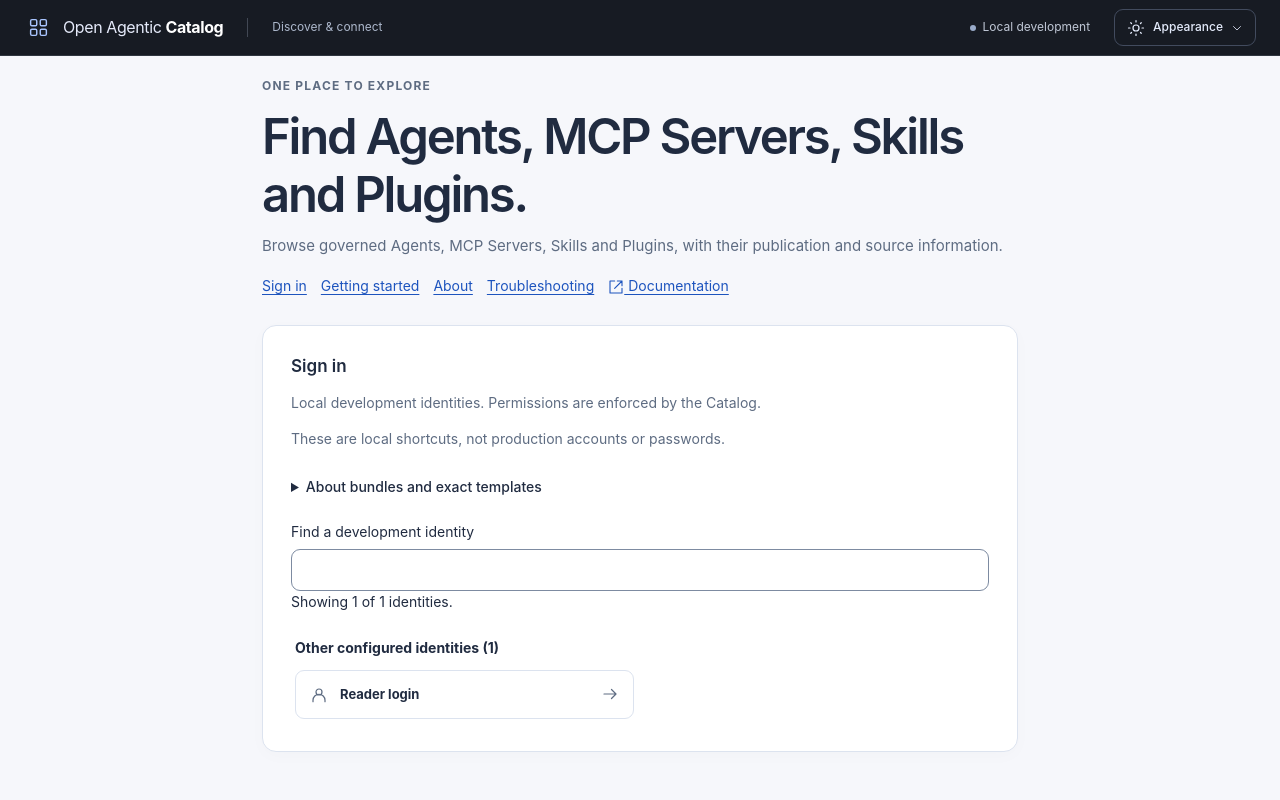
Test: shell authentication › shows a safe failed login and releases its busy state: {"status":401,"code":"invalid","requestId":""}
(page scrolled)
Click the button "Reader login" at (380, 694), box [295,670,634,719]
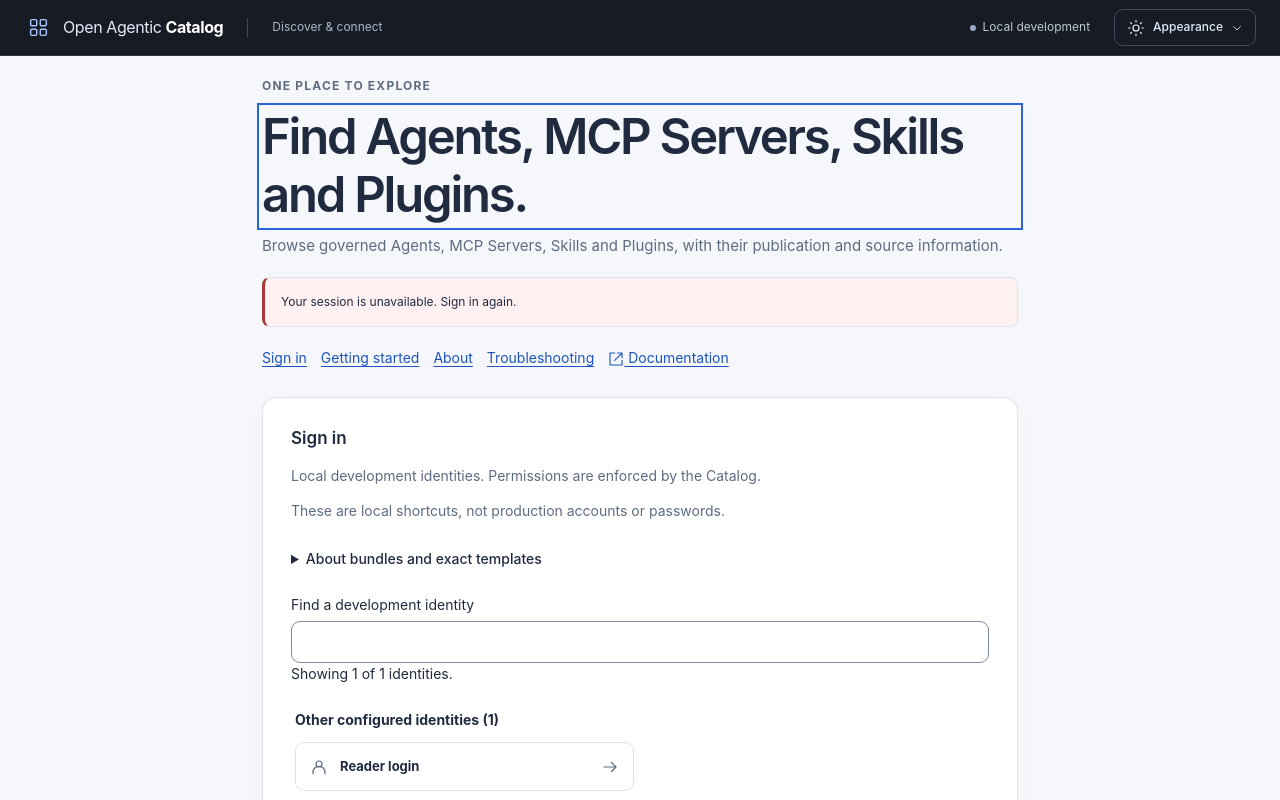
Check: the button "Reader login" is enabled, box [295,742,634,791]
Check: the message "Your session is unavailable. Sign in again." is shown, box [262,277,1018,327]
